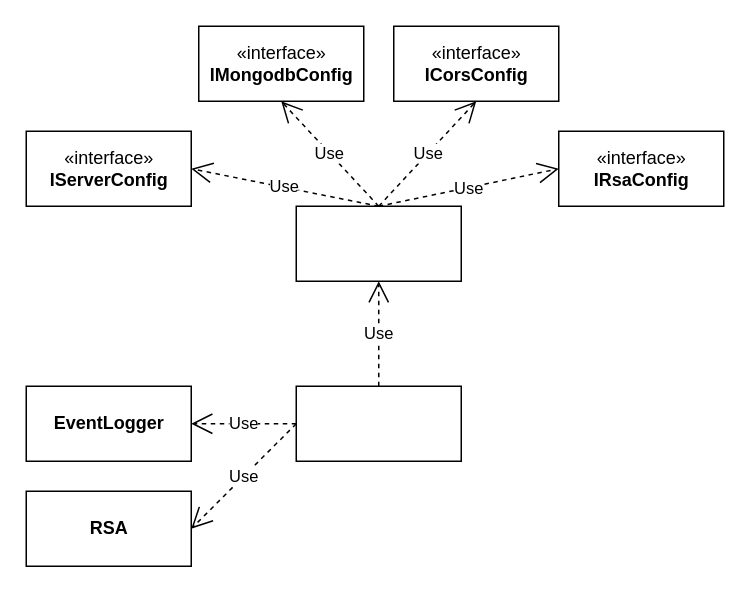
The diagram is 750 pixels wide and 593 high, and some of its shapes have lost their labels. Here are the shapes that lost their labels. From the top down, the box of each, then its label:
(295, 205, 461, 281): «interface» IConfiguration
(295, 385, 461, 461): System
